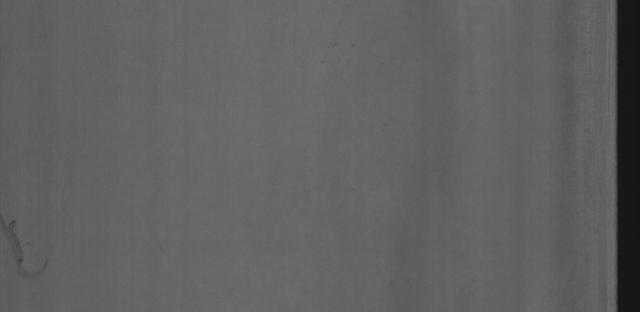water_spot: (0, 205, 49, 277)
